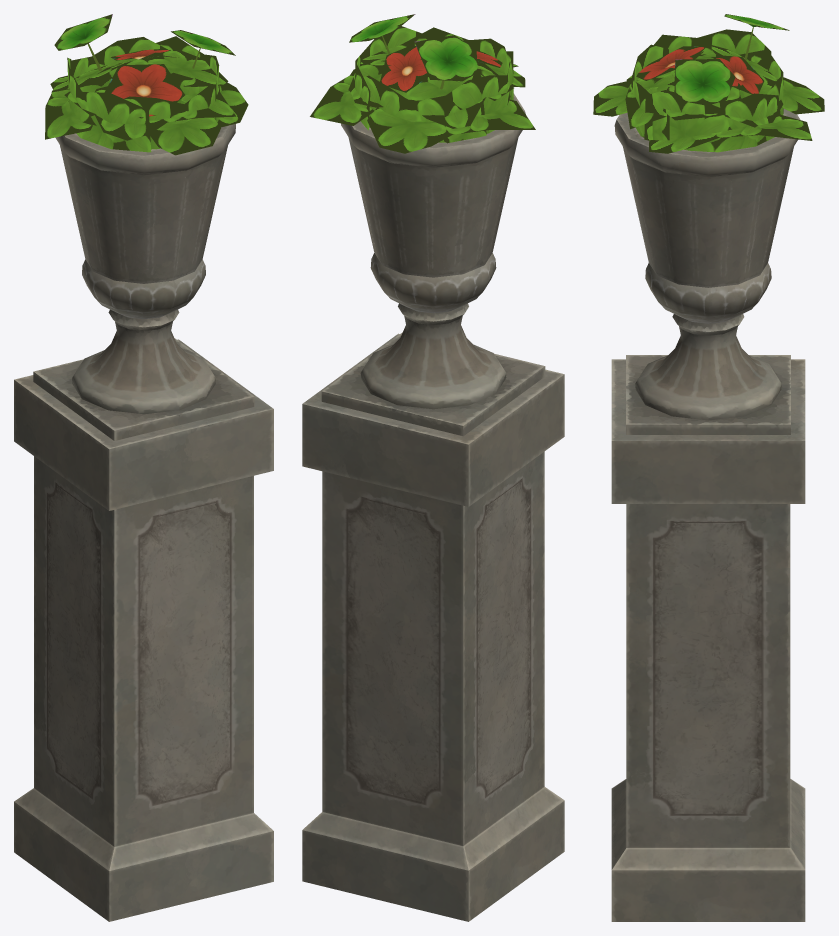
Rendered from balustrade_pillar_03.fbx.
3 renders of one model, left to right at view 1: azimuth 30°, elevation 25°; view 2: azimuth 150°, elevation 25°; view 3: azimuth 270°, elevation 25°, orthographic.
Visible parts, largest first — view 1: balustrade_pillar_03, balustrade_pillar_03_plants; view 2: balustrade_pillar_03, balustrade_pillar_03_plants; view 3: balustrade_pillar_03, balustrade_pillar_03_plants.
Boxes of the visible parts, x1,y1,x2,y2 form: balustrade_pillar_03: (14,124,273,921); balustrade_pillar_03_plants: (45,14,248,155); balustrade_pillar_03: (302,93,564,921); balustrade_pillar_03_plants: (310,14,535,153); balustrade_pillar_03: (611,109,805,921); balustrade_pillar_03_plants: (593,14,824,153).
Bounding box in the file's own units: 41.66 × 179 × 44.11.
